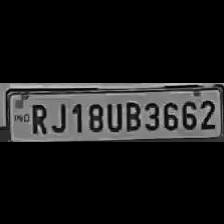1: (67, 99, 85, 134)
2: (196, 96, 216, 130)
3: (140, 98, 160, 130)
6: (160, 97, 178, 130), (179, 97, 197, 129)
8: (84, 100, 104, 132)
B: (122, 97, 140, 131)
J: (48, 99, 68, 134)
R: (27, 100, 50, 134)
U: (104, 98, 122, 132)
